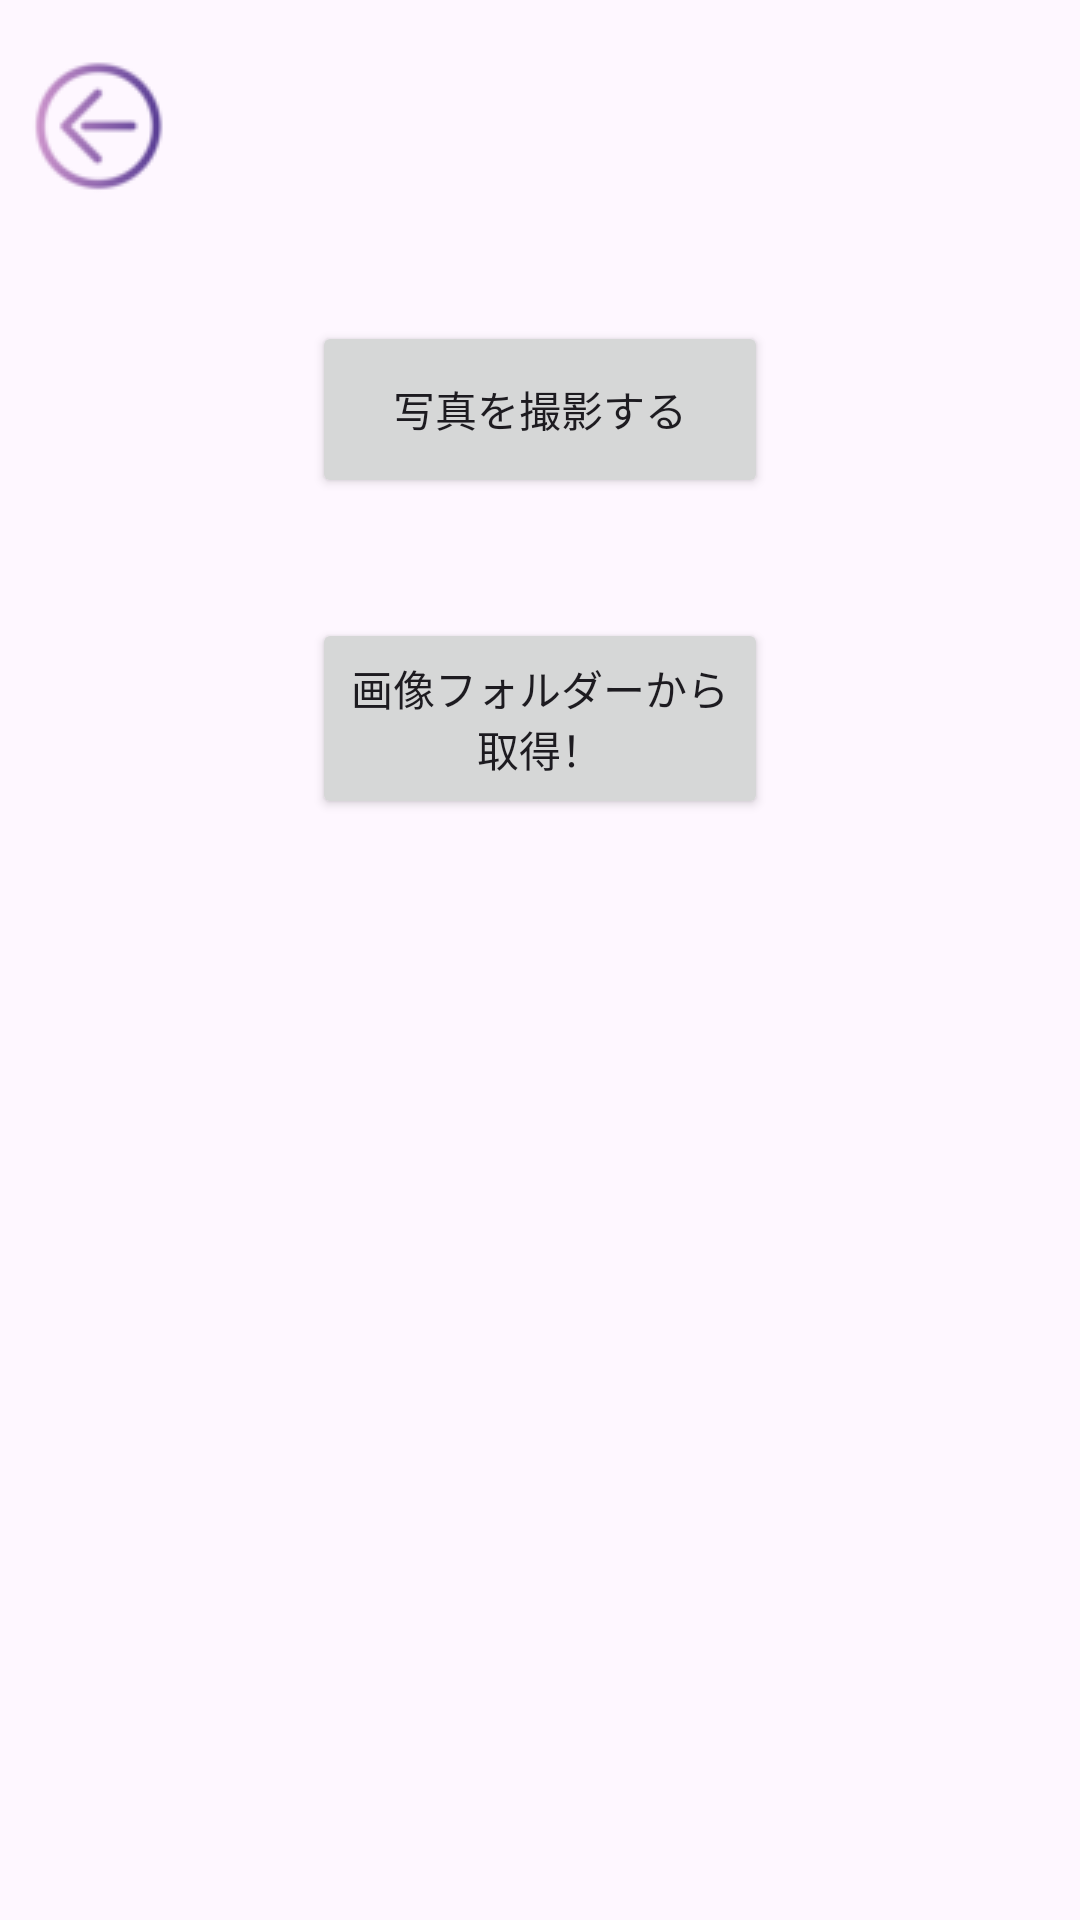

Locate icon controls on the screen. Image size 1080x1920, boxes as (x1, y1, x2, y2).
back: (35, 62, 163, 190)
